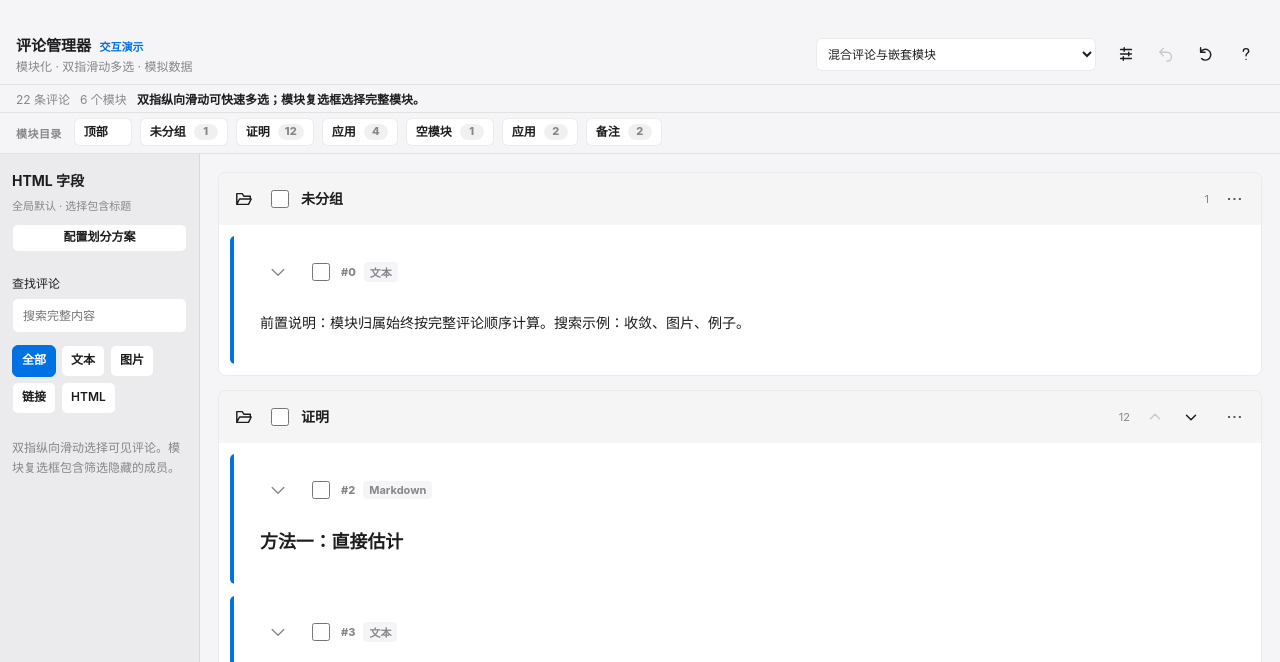
it: selects complete modules under image filtering and exposes hidden member count
(page scrolled)
Click the button "图片". click: (132, 361)
box: top-left (110, 345), bottom-right (154, 377)
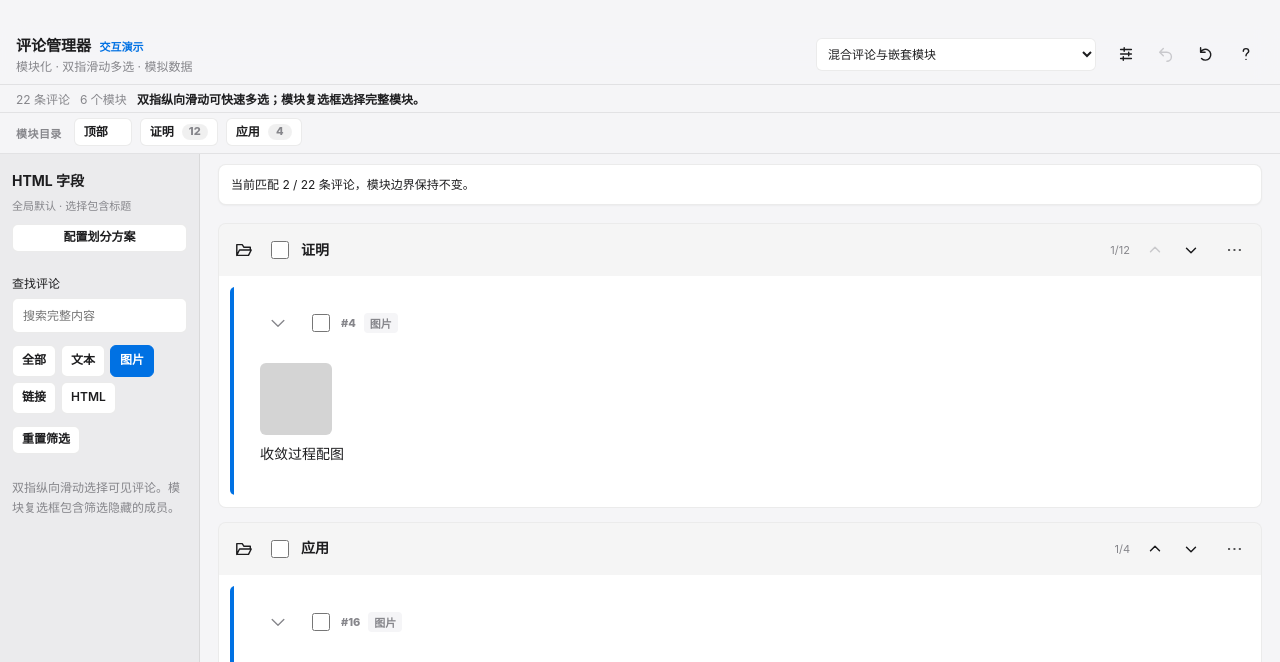
Click the checkbox named "选择模块：证明（含标题）". click: (280, 250)
box: top-left (271, 241), bottom-right (289, 259)
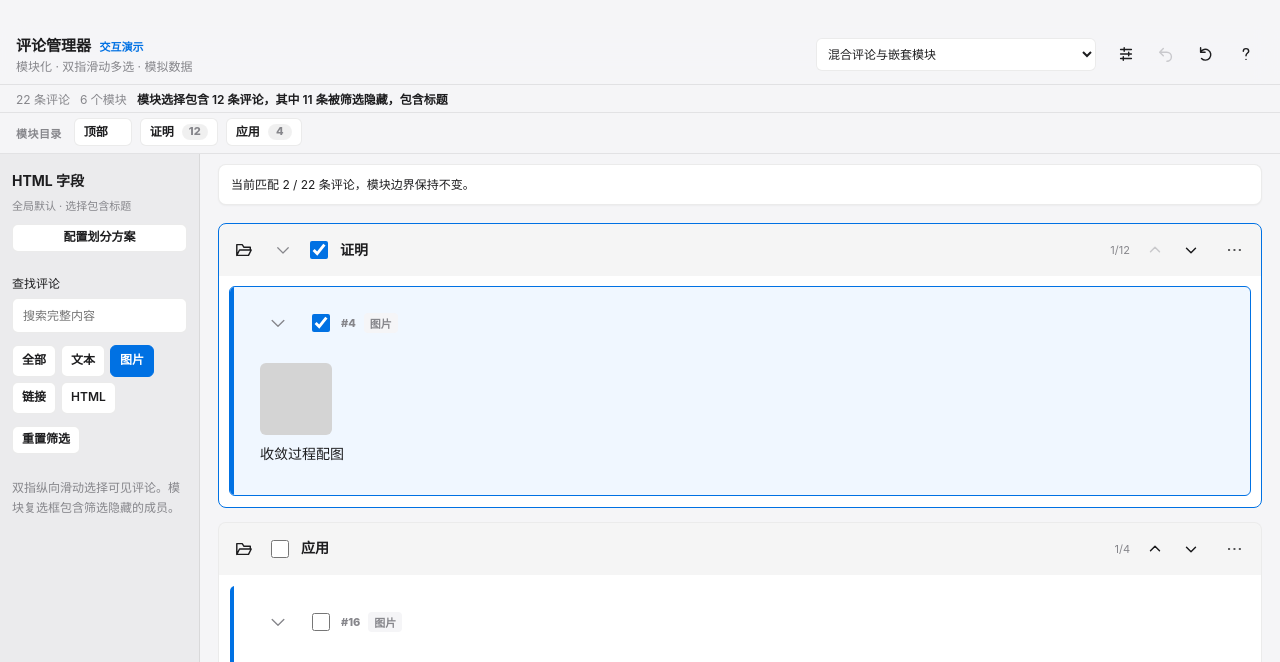
expect the message with class "status-message" shows "被筛选隐藏": met, box top-left (137, 92), bottom-right (448, 107)
